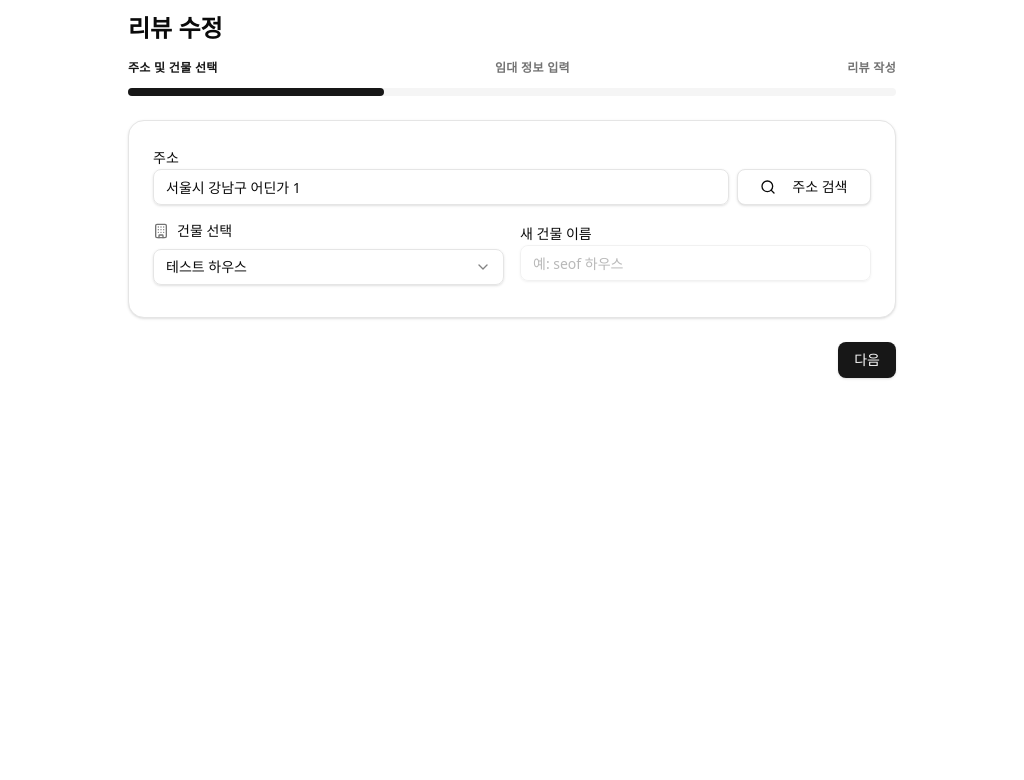
Test: ReviewFormClient › surfaces submit errors from the server action
What coordinates should you click on to do the following:
click the button "다음"
I would click on:
 (867, 360)
Its box is [838,342,896,378].
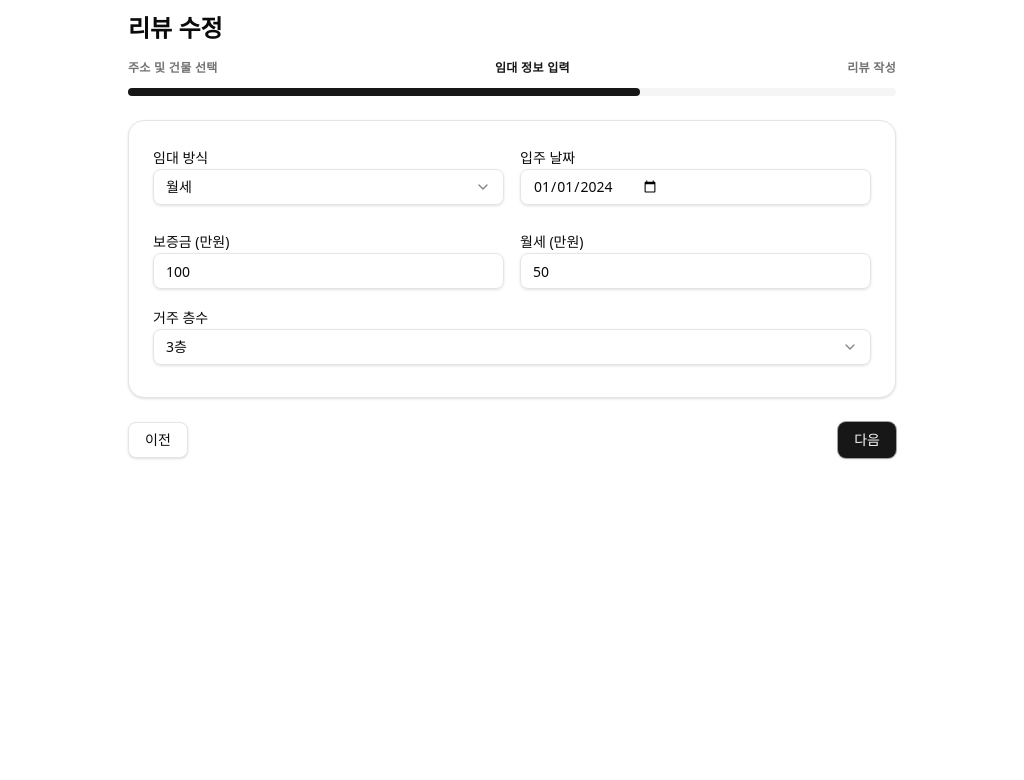
What coordinates should you click on to do the following:
click the button "다음"
I would click on:
 (867, 440)
Its box is [838,422,896,458].
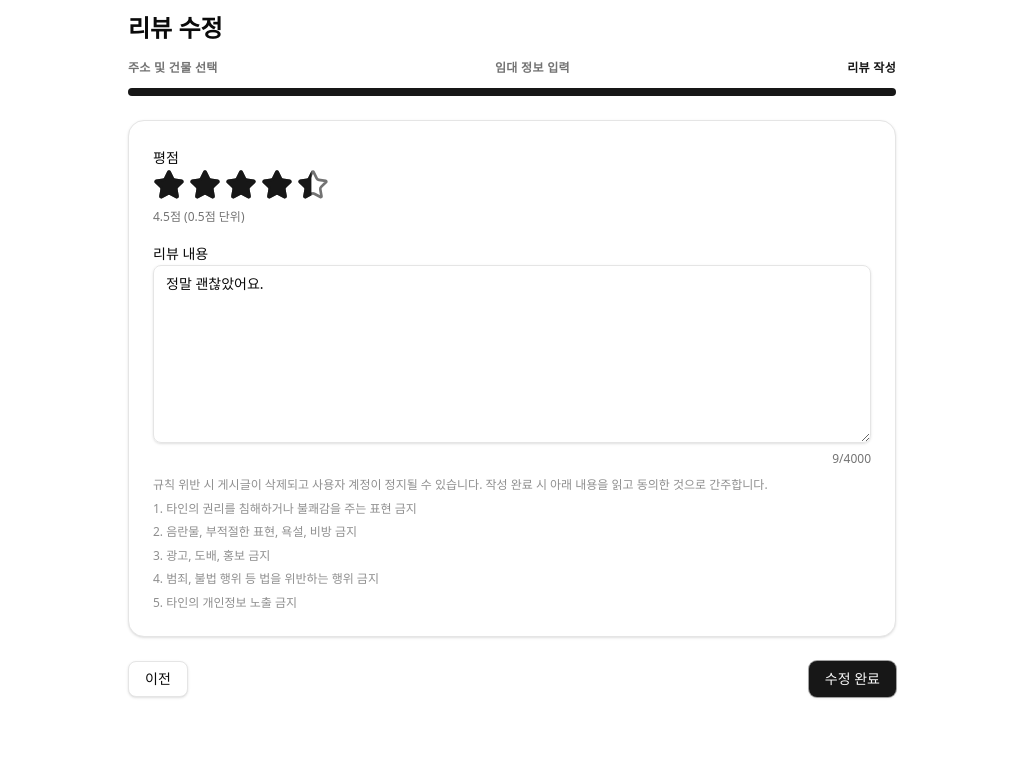
What coordinates should you click on to do the following:
click the button "수정 완료"
I would click on:
 (852, 679)
Its box is [809,661,896,697].
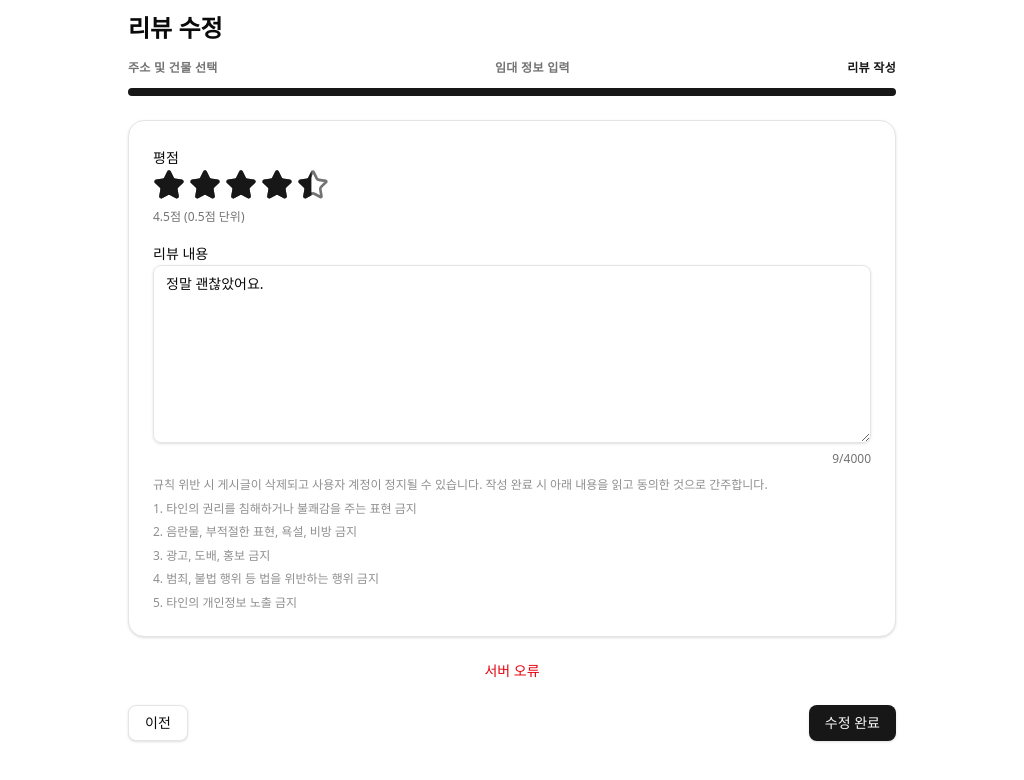
Expected: the text "서버 오류" is shown, [484,661,540,680]
